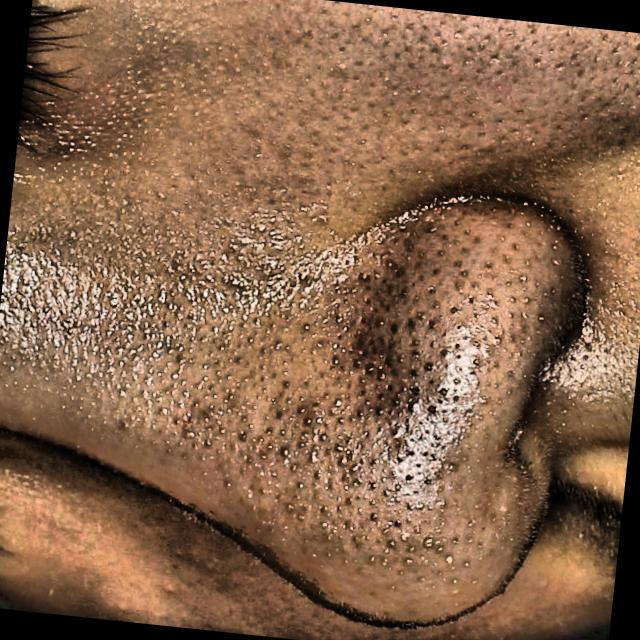whiteheads: (298, 410, 316, 428), (443, 302, 461, 320), (366, 506, 384, 523), (202, 433, 218, 452), (326, 352, 343, 368), (278, 376, 294, 392), (372, 402, 388, 418), (270, 406, 286, 422), (276, 444, 292, 459), (221, 476, 236, 492), (389, 514, 404, 530), (333, 412, 348, 427), (253, 482, 268, 496), (272, 337, 286, 352), (396, 218, 410, 232), (379, 380, 394, 393), (294, 478, 310, 490), (506, 241, 522, 253), (366, 477, 380, 490), (367, 584, 378, 600), (284, 501, 297, 513)
